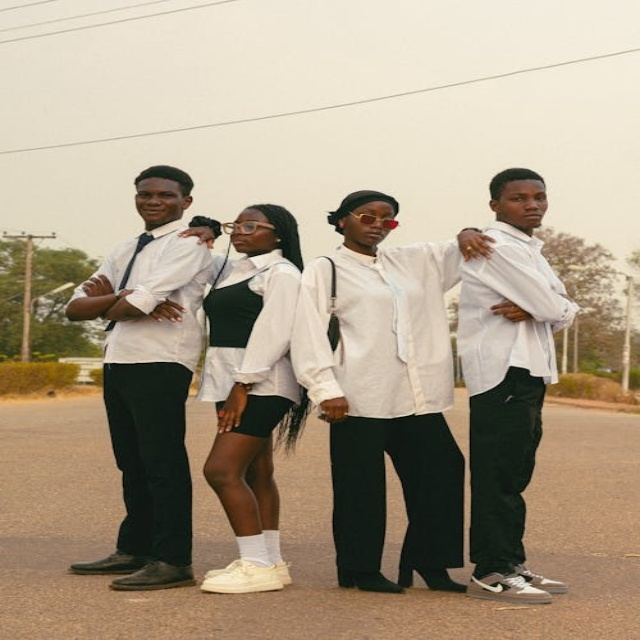Gafas: (348, 212, 399, 228), (223, 221, 277, 234)
Sin_gafas: (503, 189, 550, 204), (134, 188, 180, 198)
Sin_guantes: (216, 380, 253, 433), (456, 226, 499, 265), (146, 293, 191, 326), (488, 296, 532, 328), (178, 219, 218, 251), (317, 396, 356, 428), (77, 270, 116, 299)
Sin_mascara: (517, 209, 547, 223), (357, 228, 387, 240), (140, 204, 164, 214), (227, 236, 250, 246)
